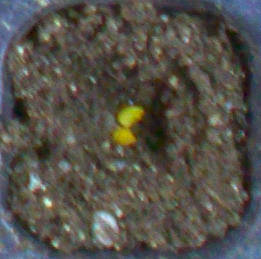pepper seed: (43, 52, 181, 199), (43, 40, 189, 169)
